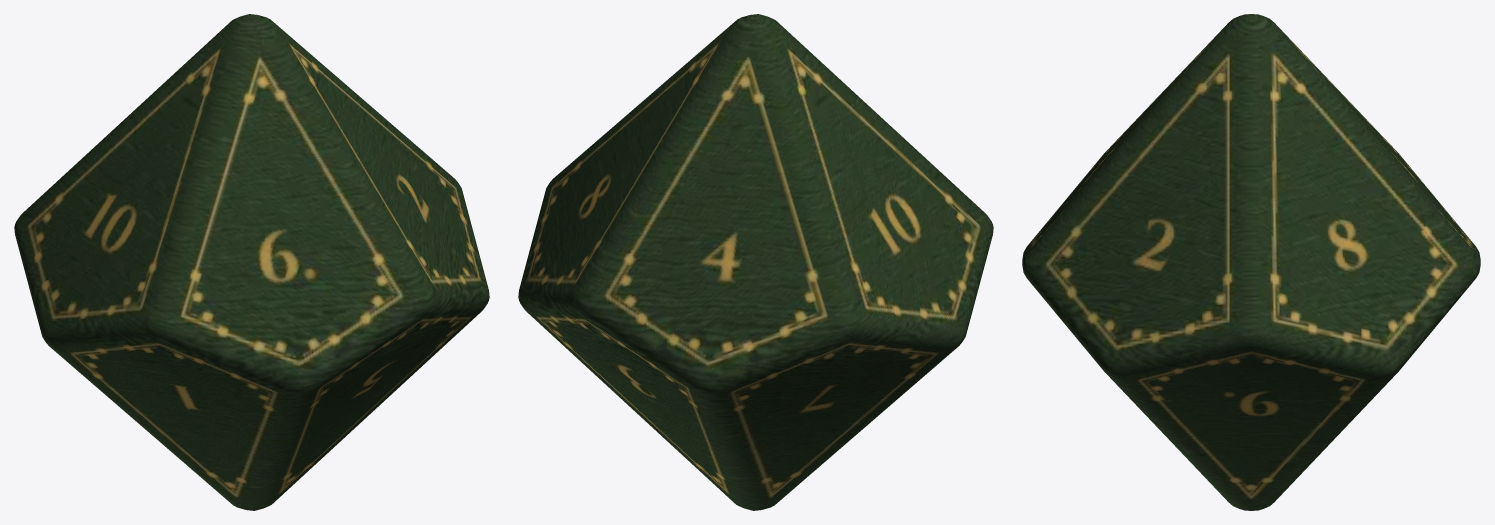
File: bosmer-d10.glb
3 renders of one model, left to right at view 1: azimuth 30°, elevation 25°; view 2: azimuth 150°, elevation 25°; view 3: azimuth 270°, elevation 25°, orthographic.
Visible parts, largest first — view 1: bosmer_d10; view 2: bosmer_d10; view 3: bosmer_d10.
Part boxes in pixels (bbox=[...]): bosmer_d10: bbox=[14, 14, 489, 510]; bosmer_d10: bbox=[518, 14, 993, 510]; bosmer_d10: bbox=[1022, 14, 1480, 510].
Bounding box in the file's own units: 1.66 × 1.91 × 1.59.
Materials: 1 (1 with a texture image).
